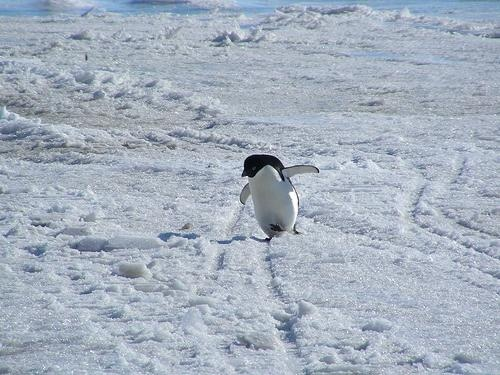bird: (240, 155, 321, 240)
